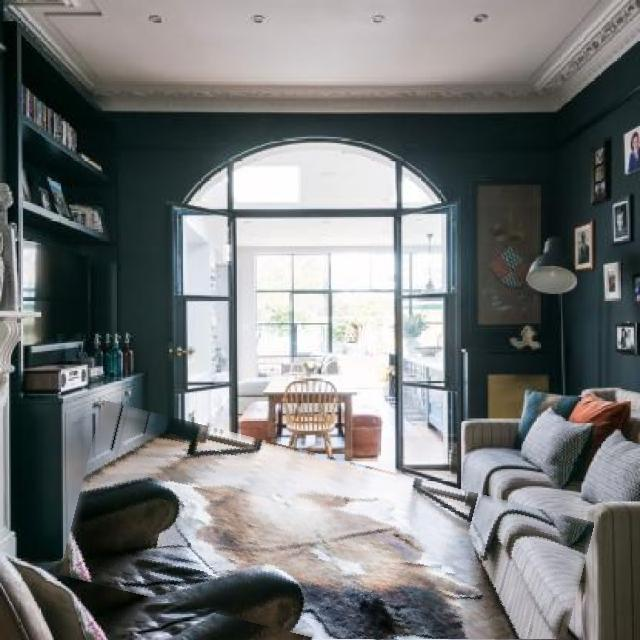floor: (81, 437, 524, 640)
